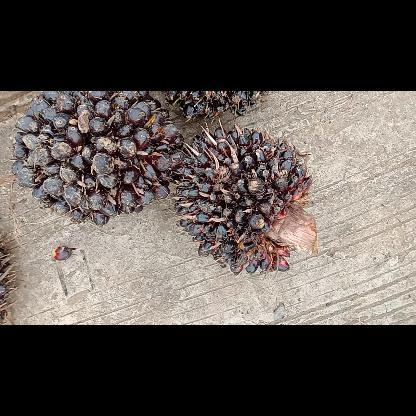TBS mentah: (10, 91, 186, 227), (176, 126, 320, 278)
